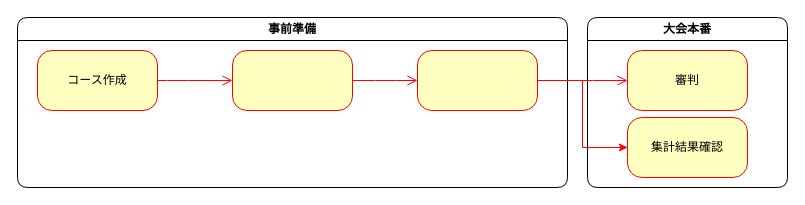
The diagram is 805 pixels wide and 205 high, and some of its shapes have lost their labels. Each missing label, with the centre of its shape:
大会設定: the point at 477,80
選手登録: the point at 292,80
